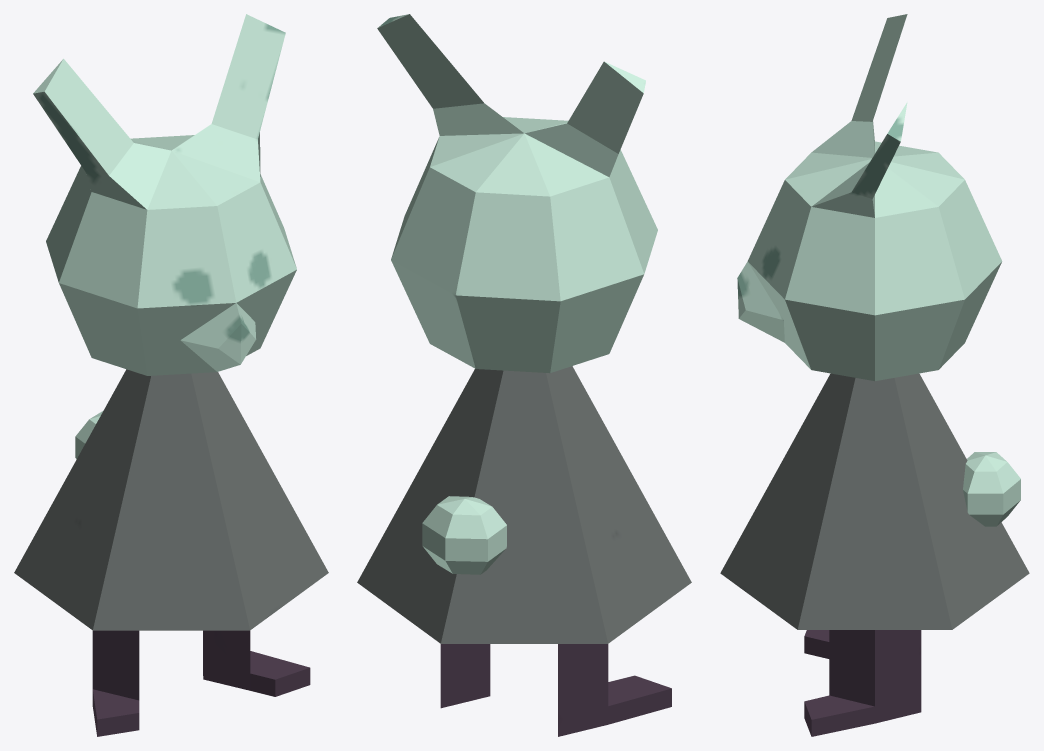
Rendered from bunny.fbx.
The picture shows the model from 3 angles, left to right: view 1: azimuth 30°, elevation 25°; view 2: azimuth 150°, elevation 25°; view 3: azimuth 270°, elevation 25°; orthographic projection. The views are drawn at different scales.
Parts seen in each view (by area): view 1: Bunny; view 2: Bunny; view 3: Bunny.
Part boxes in pixels (bbox=[...]): Bunny: bbox=[14, 14, 328, 736]; Bunny: bbox=[357, 14, 691, 736]; Bunny: bbox=[720, 14, 1029, 736].
Bounding box in the file's own units: 273 × 666 × 297.
Materials: 1 (1 with a texture image).
